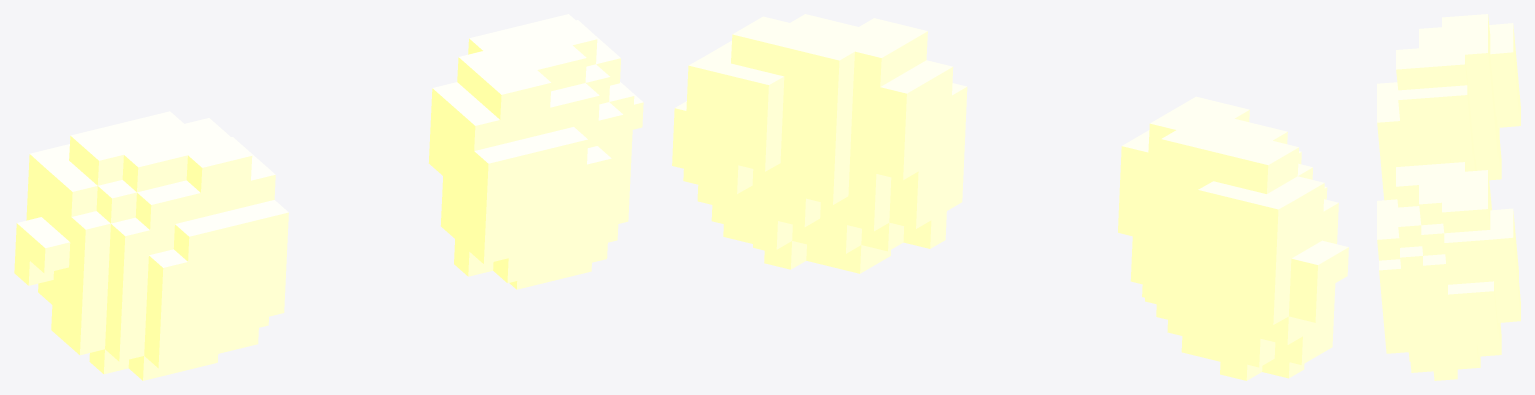
Rendered from yellow.gltf.
The picture shows the model from 3 angles, left to right: view 1: azimuth 30°, elevation 25°; view 2: azimuth 150°, elevation 25°; view 3: azimuth 270°, elevation 25°; orthographic projection. The views are drawn at different scales.
Parts seen in each view (by area): view 1: 眼睛.1; view 2: 眼睛.1; view 3: 眼睛.1.
Boxes of the visible parts, x1,y1,x2,y2 form: 眼睛.1: [14, 14, 643, 380]; 眼睛.1: [672, 14, 1348, 380]; 眼睛.1: [1377, 14, 1520, 380].
Bounding box in the file's own units: 2.88 × 0.9961 × 0.7471.
